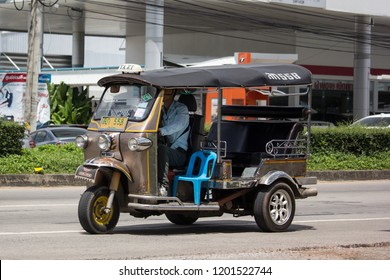threewheel: (74, 64, 318, 233)
